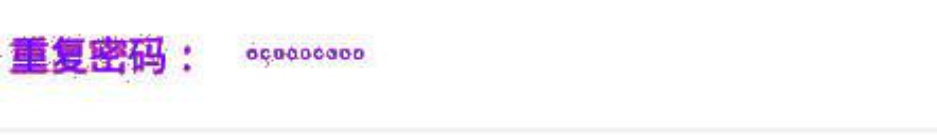EditText: (1, 1, 936, 139)
